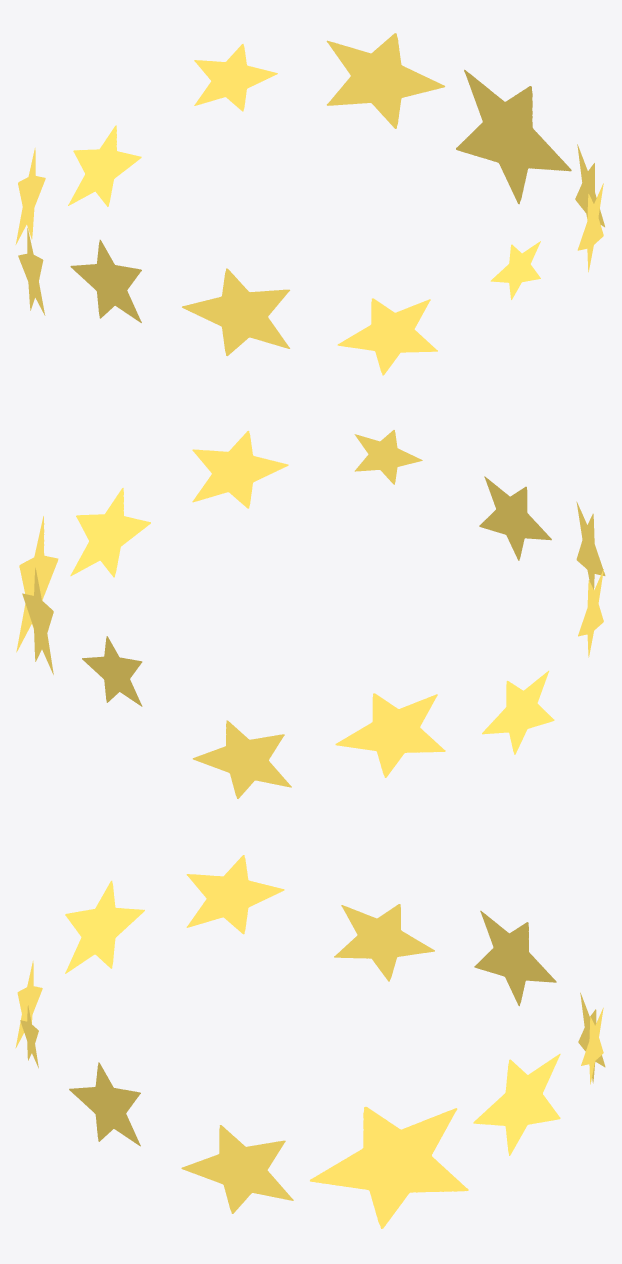
Rendered from stars.glb.
3 views of the same model, one above another, from view 1: azimuth 30°, elevation 25°; view 2: azimuth 150°, elevation 25°; view 3: azimuth 270°, elevation 25° (orthographic).
Visible parts, largest first — view 1: stars; view 2: stars; view 3: stars.
Boxes of the visible parts, box(x1,y1,x2,y2) form: stars: box(15, 33, 604, 375); stars: box(16, 430, 605, 798); stars: box(15, 855, 605, 1228).
Size of the model in its own units: 2 by 0.5929 by 1.97.
Materials: 1 (1 with a texture image).
